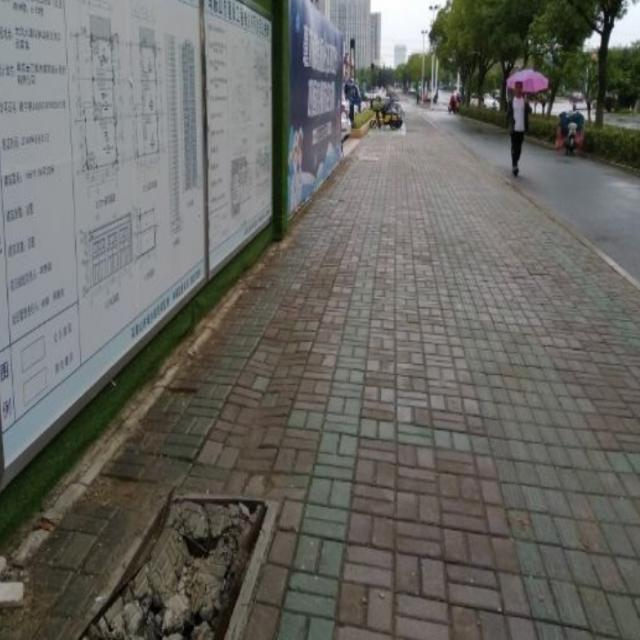Broken: (69, 473, 294, 640)
